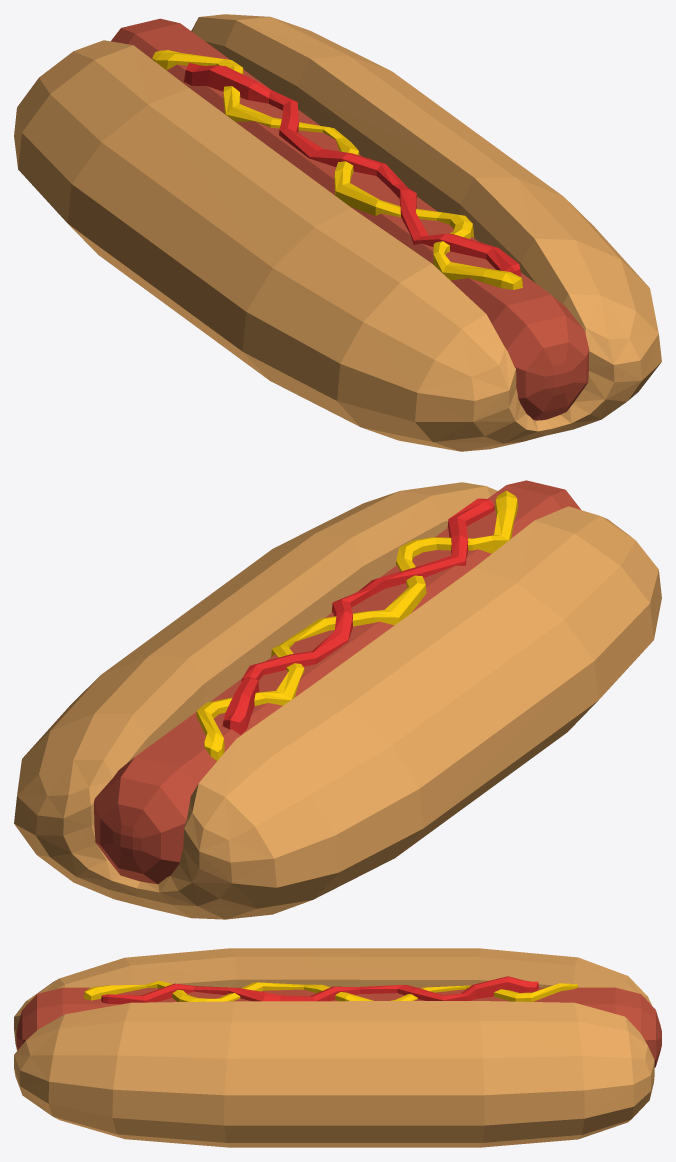
Rendered from Hotdog.obj.
3 views of the same model, one above another, from view 1: azimuth 30°, elevation 25°; view 2: azimuth 150°, elevation 25°; view 3: azimuth 270°, elevation 25° (orthographic). The views are drawn at different scales.
Parts seen in each view (by area): view 1: Hotdog_LightYellow, Hotdog_Hotdog, Hotdog_Red, Hotdog_Cheese; view 2: Hotdog_LightYellow, Hotdog_Hotdog, Hotdog_Cheese, Hotdog_Red; view 3: Hotdog_LightYellow, Hotdog_Hotdog, Hotdog_Red, Hotdog_Cheese.
Part boxes in pixels (x1,y1,x2,y2): Hotdog_LightYellow: (14, 14, 661, 451); Hotdog_Hotdog: (111, 18, 589, 420); Hotdog_Red: (184, 62, 520, 276); Hotdog_Cheese: (152, 50, 522, 289); Hotdog_LightYellow: (14, 482, 661, 919); Hotdog_Hotdog: (94, 480, 580, 884); Hotdog_Cheese: (196, 490, 518, 760); Hotdog_Red: (222, 498, 494, 734); Hotdog_LightYellow: (14, 948, 654, 1147); Hotdog_Hotdog: (16, 987, 661, 1067); Hotdog_Red: (101, 976, 539, 1004); Hotdog_Cheese: (84, 980, 578, 1001).
Size of the model in its own units: 0.7853 by 0.4094 by 1.66.
